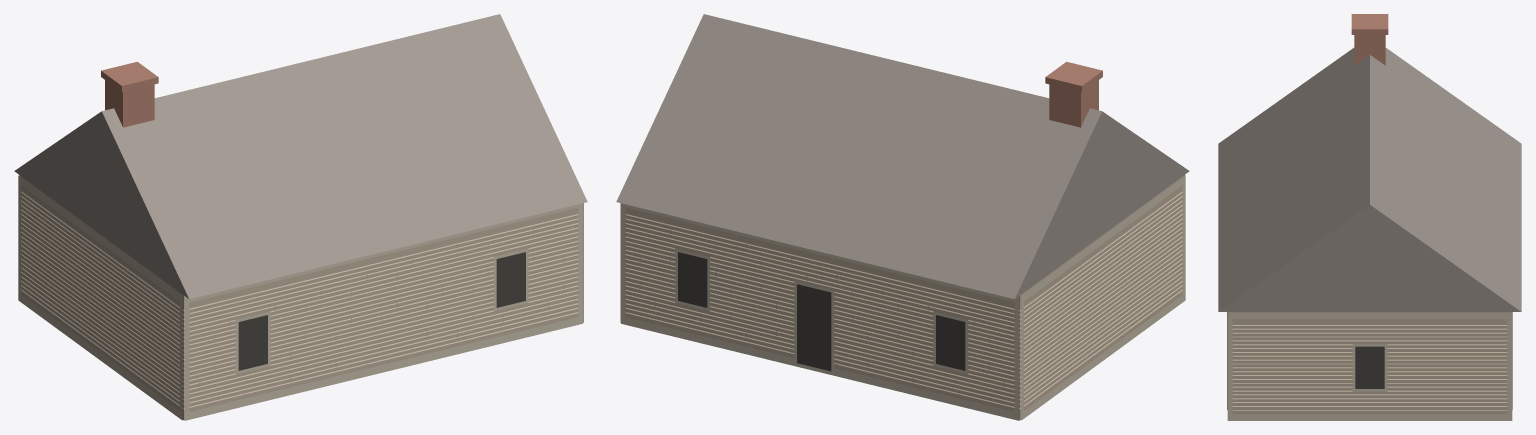
File: st_marys_church__frame_1833.glb
The picture shows the model from 3 angles, left to right: view 1: azimuth 30°, elevation 25°; view 2: azimuth 150°, elevation 25°; view 3: azimuth 270°, elevation 25°; orthographic projection. The views are drawn at different scales.
Parts seen in each view (by area): view 1: st_marys_church__frame_1833; view 2: st_marys_church__frame_1833; view 3: st_marys_church__frame_1833.
Part boxes in pixels (<box>): st_marys_church__frame_1833: <box>14,14,587,420</box>; st_marys_church__frame_1833: <box>616,14,1189,420</box>; st_marys_church__frame_1833: <box>1218,14,1521,420</box>.
Size of the model in its own units: 10.75 by 7.15 by 8.12.
